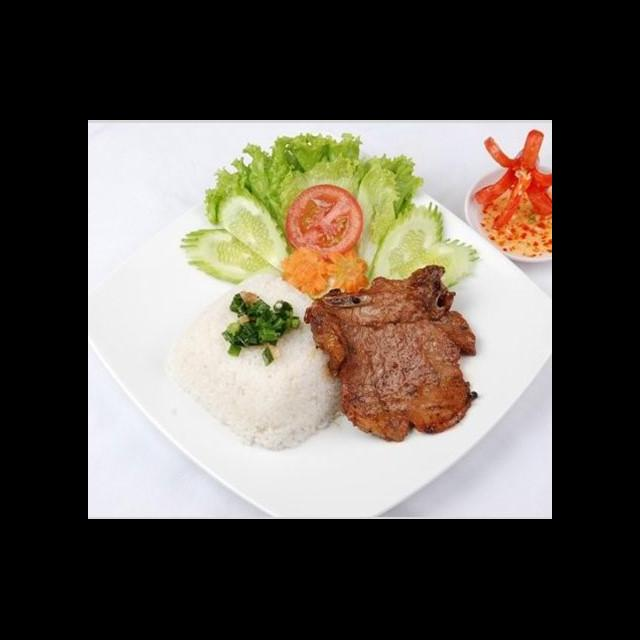com: (170, 268, 350, 457)
com suon: (122, 144, 549, 518)
suon: (302, 263, 481, 447)
